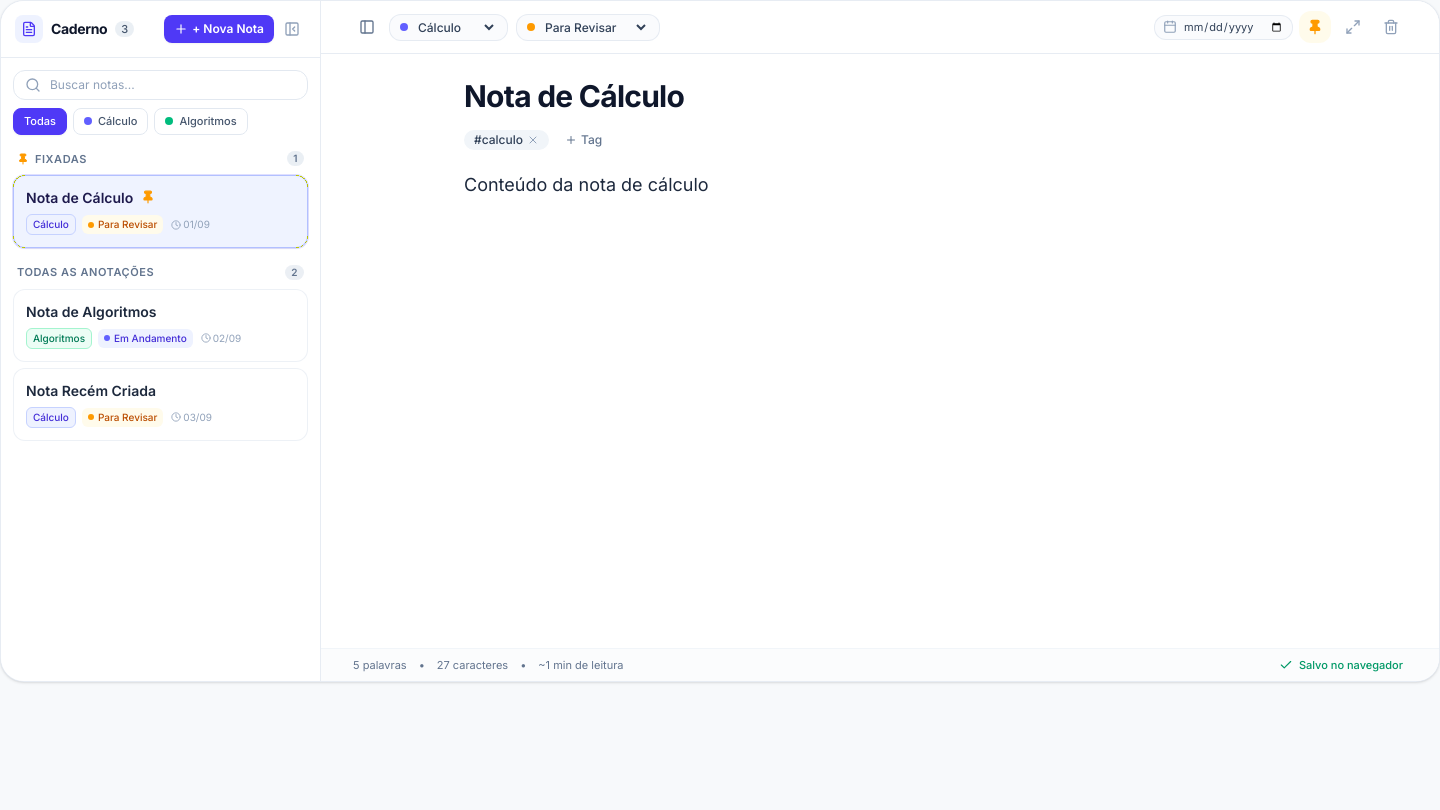
Test: AcademicStudio › permite criar nova nota via prop customizada
The image size is (1440, 810).
Click the button labelled "+ Nova Nota": (219, 29) [164,15,274,43]
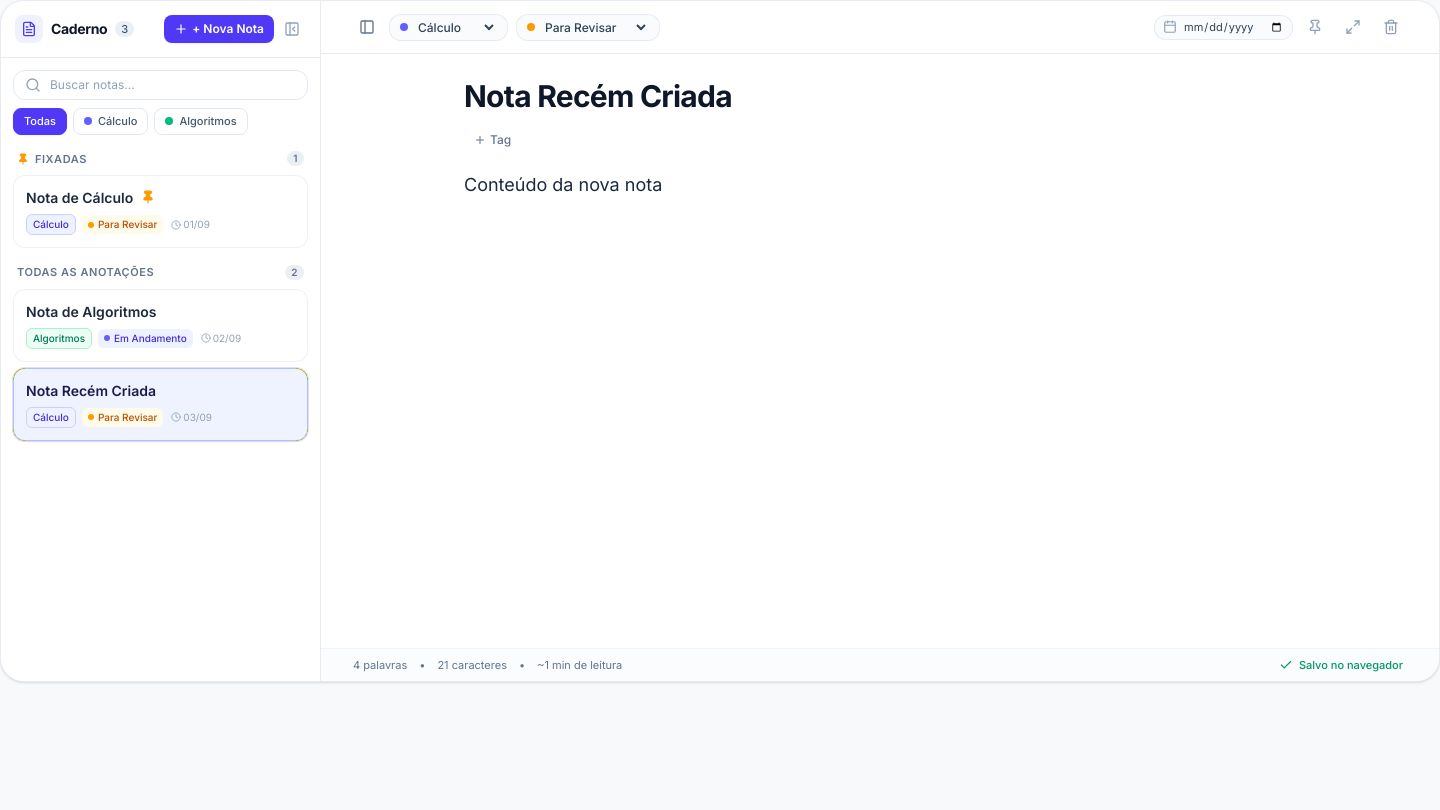
Check: the field named "Título da anotação" holds "Nota Recém Criada", box [464,78,1296,114]
